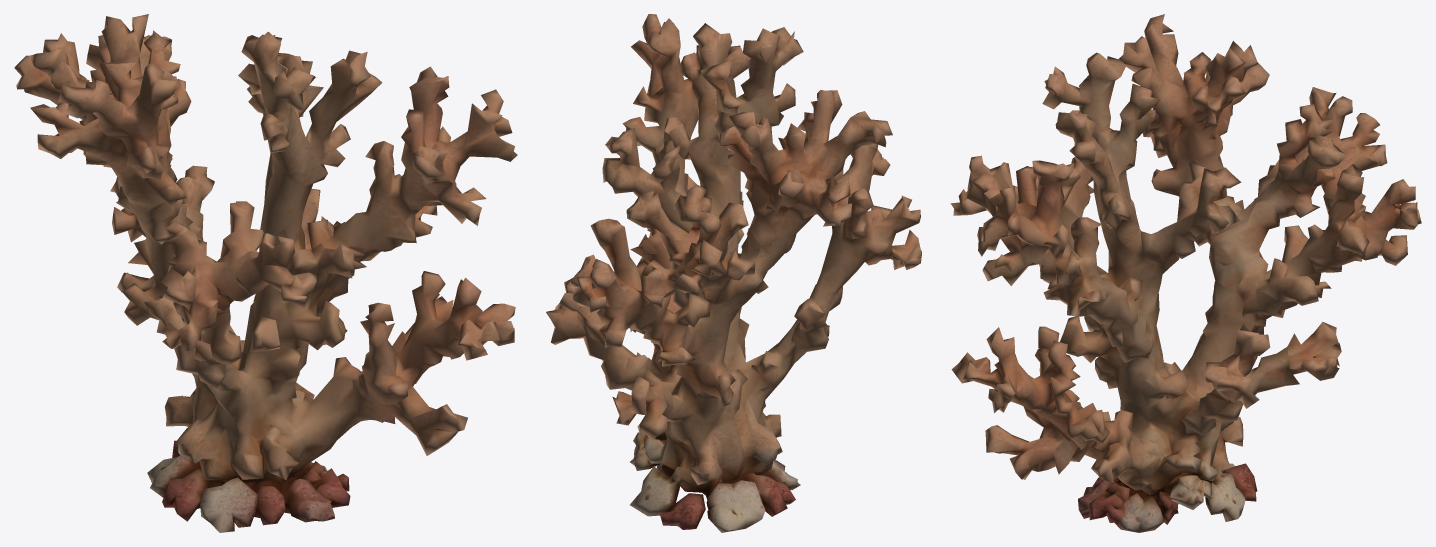
File: coral-branch.glb
3 views of the same model, side by side, from view 1: azimuth 30°, elevation 25°; view 2: azimuth 150°, elevation 25°; view 3: azimuth 270°, elevation 25° (orthographic). The views are drawn at different scales.
Visible parts, largest first — view 1: tripo_node_77b161a5-11e1-4746-9387-74a6009f7dd2; view 2: tripo_node_77b161a5-11e1-4746-9387-74a6009f7dd2; view 3: tripo_node_77b161a5-11e1-4746-9387-74a6009f7dd2.
Part boxes in pixels (<box>): tripo_node_77b161a5-11e1-4746-9387-74a6009f7dd2: <box>14,14,517,532</box>; tripo_node_77b161a5-11e1-4746-9387-74a6009f7dd2: <box>546,14,921,532</box>; tripo_node_77b161a5-11e1-4746-9387-74a6009f7dd2: <box>950,14,1421,532</box>.
Bounding box in the file's own units: 0.7853 × 1 × 0.9687.
1 material, 1 textured.
